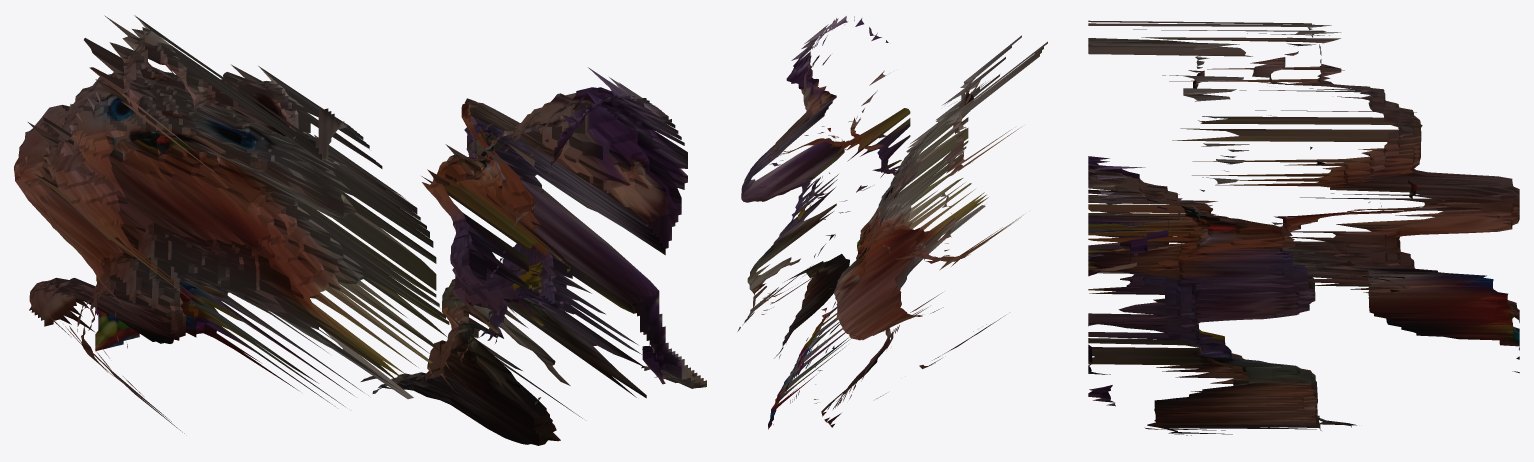
Rendered from frame_00357.glb.
3 renders of one model, left to right at view 1: azimuth 30°, elevation 25°; view 2: azimuth 150°, elevation 25°; view 3: azimuth 270°, elevation 25°, orthographic. The views are drawn at different scales.
Visible parts, largest first — view 1: geometry_0; view 2: geometry_0; view 3: geometry_0.
Part boxes in pixels (x1,y1,x2,y2): geometry_0: (14, 15, 706, 445); geometry_0: (737, 16, 1047, 429); geometry_0: (1088, 20, 1519, 435).
Size of the model in its own units: 0.1407 by 0.1415 by 0.16.
Materials: 1 (1 with a texture image).
